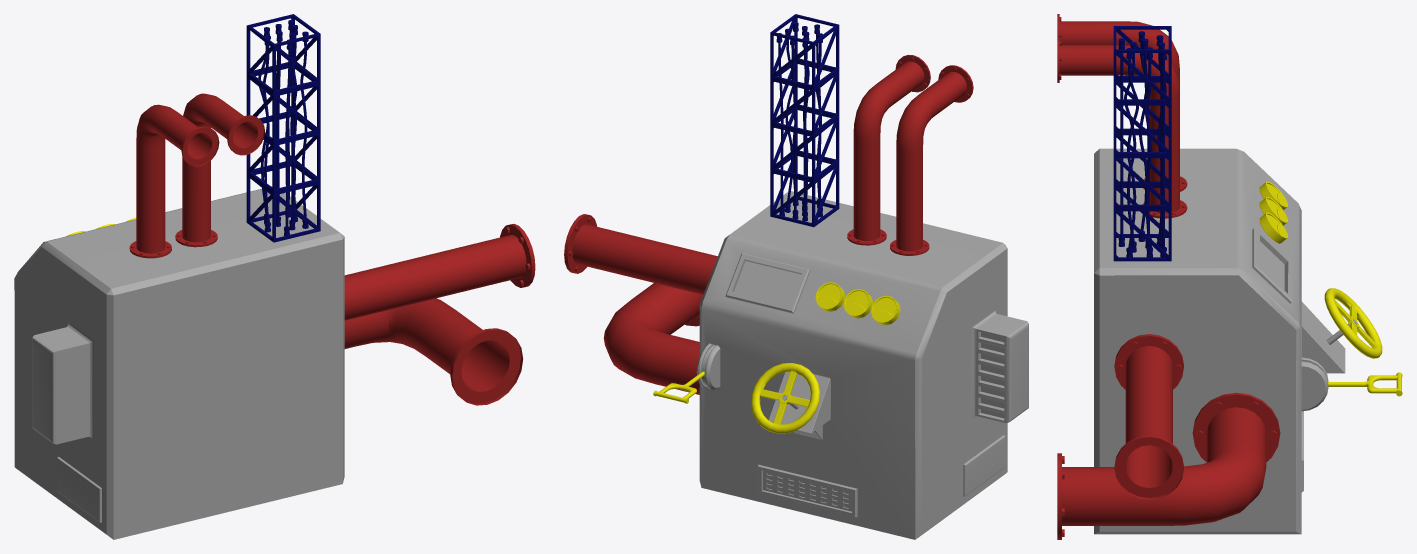
File: maquina1.fbx
The picture shows the model from 3 angles, left to right: view 1: azimuth 30°, elevation 25°; view 2: azimuth 150°, elevation 25°; view 3: azimuth 270°, elevation 25°; orthographic projection. The views are drawn at different scales.
Parts seen in each view (by area): view 1: cuerpo, cano1, cano2, cano4, cano3, bloque_1, bloque_4, bloque_2, bloque_3, cable6, cable9; view 2: cuerpo, cano1, cano2, cano3, cano4, volante, bloque_1, bloque_2, bloque_3, bloque_4, medidor3, medidor2 (+2 smaller); view 3: cuerpo, cano1, cano2, cano3, cano4, volante, bloque_1, bloque_3, bloque_4, bloque_2, palanca, cable9 (+7 smaller).
Part boxes in pixels (box(x1,y1,x2,y2)): cuerpo: box(14, 186, 344, 539); cano1: box(344, 298, 522, 405); cano2: box(344, 224, 535, 320); cano4: box(129, 104, 219, 258); cano3: box(175, 93, 264, 247); bloque_1: box(246, 14, 320, 94); bloque_4: box(246, 164, 320, 242); bloque_2: box(246, 66, 320, 143); bloque_3: box(246, 114, 320, 192); cable6: box(276, 31, 282, 226); cable9: box(284, 39, 292, 235); cuerpo: box(696, 191, 1028, 539); cano1: box(603, 283, 702, 394); cano2: box(564, 214, 717, 294); cano3: box(847, 54, 930, 245); cano4: box(890, 65, 973, 255); volante: box(751, 363, 819, 433); bloque_1: box(770, 14, 839, 88); bloque_2: box(770, 61, 839, 134); bloque_3: box(770, 108, 839, 180); bloque_4: box(770, 153, 839, 227); medidor3: box(871, 295, 900, 325); medidor2: box(815, 282, 845, 311); cuerpo: box(1094, 148, 1357, 534); cano1: box(1057, 392, 1280, 539); cano2: box(1114, 334, 1183, 499); cano3: box(1057, 38, 1187, 218); cano4: box(1057, 14, 1187, 191); volante: box(1324, 288, 1382, 358); bloque_1: box(1113, 26, 1171, 103); bloque_3: box(1113, 132, 1171, 208); bloque_4: box(1113, 185, 1171, 261); bloque_2: box(1113, 80, 1171, 155); palanca: box(1328, 372, 1402, 396); cable9: box(1118, 38, 1124, 246).
Size of the model in its own units: 361 by 324 by 213.
